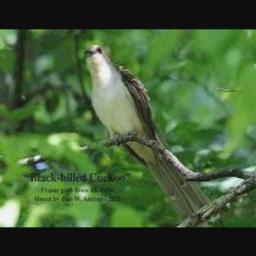Cuckoo: (84, 45, 219, 227)
